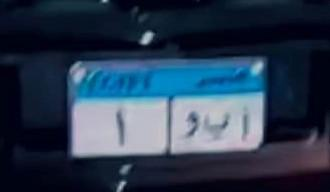1: (105, 104, 133, 150)
أ: (234, 105, 253, 143)
ب: (198, 105, 237, 143)
و: (179, 97, 206, 142)
